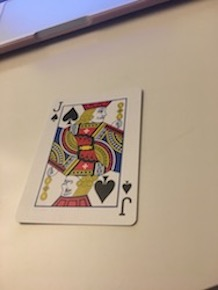JackOfSpades: (13, 84, 150, 235)
